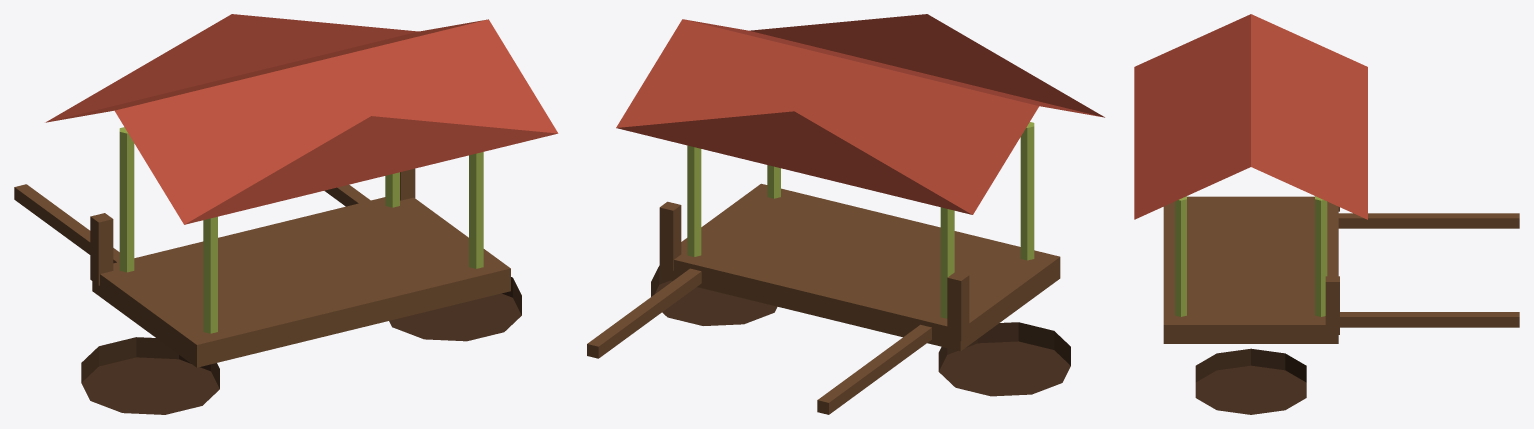
File: cart_gerobak.obj
The picture shows the model from 3 angles, left to right: view 1: azimuth 30°, elevation 25°; view 2: azimuth 150°, elevation 25°; view 3: azimuth 270°, elevation 25°; orthographic projection. The views are drawn at different scales.
Visible parts, largest first — view 1: awning, bed, wheel, canopy_post, shaft, side; view 2: awning, bed, wheel, canopy_post, shaft, side; view 3: awning, bed, wheel, shaft, canopy_post, side.
Part boxes in pixels (box(x1,y1,x2,y2)): awning: box(45, 14, 558, 224); bed: box(92, 197, 510, 367); wheel: box(81, 277, 521, 414); canopy_post: box(119, 127, 483, 333); shaft: box(14, 184, 370, 263); side: box(90, 168, 415, 285); awning: box(616, 14, 1104, 214); bed: box(661, 183, 1060, 351); wheel: box(651, 265, 1070, 396); canopy_post: box(687, 122, 1034, 318); shaft: box(587, 268, 931, 414); side: box(659, 201, 969, 340); awning: box(1134, 14, 1367, 219); bed: box(1163, 196, 1338, 343); wheel: box(1195, 348, 1306, 414); shaft: box(1338, 213, 1519, 327); canopy_post: box(1175, 196, 1327, 316); side: box(1325, 201, 1339, 334).
Bounding box in the file's own units: 3.5 × 2.25 × 3.3.
